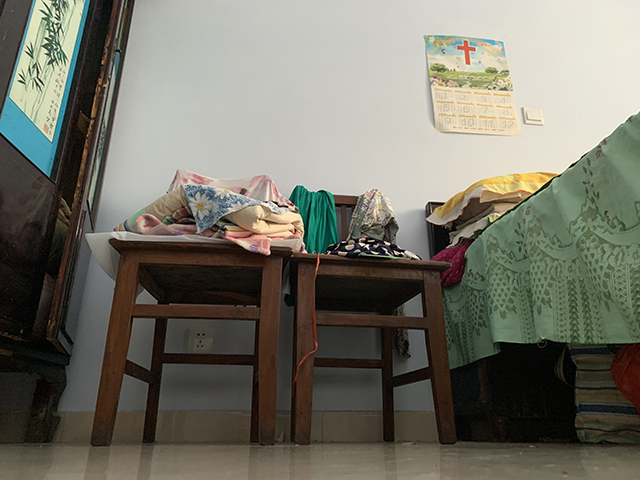bed: (425, 110, 640, 444)
cabinet: (1, 1, 138, 445)
stool: (286, 192, 459, 446), (90, 237, 293, 448)
